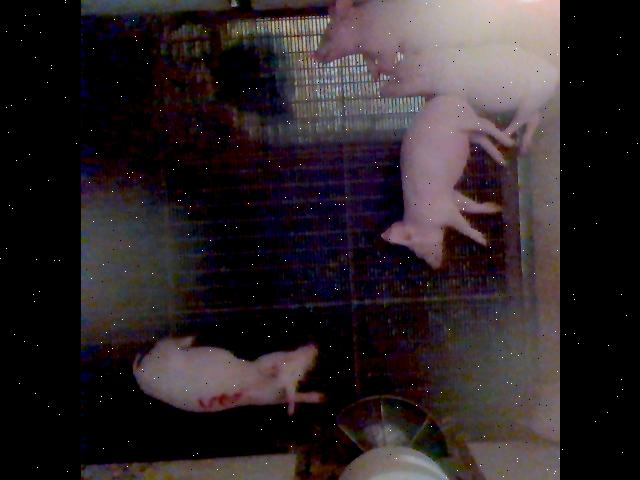pig-3: (132, 338, 322, 415)
